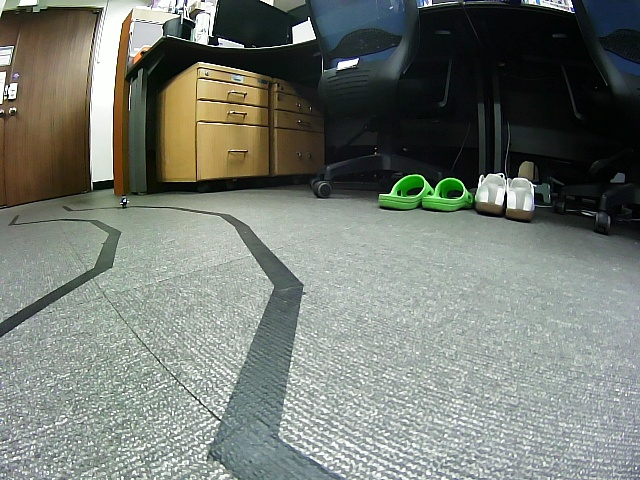person: (119, 194, 130, 209)
